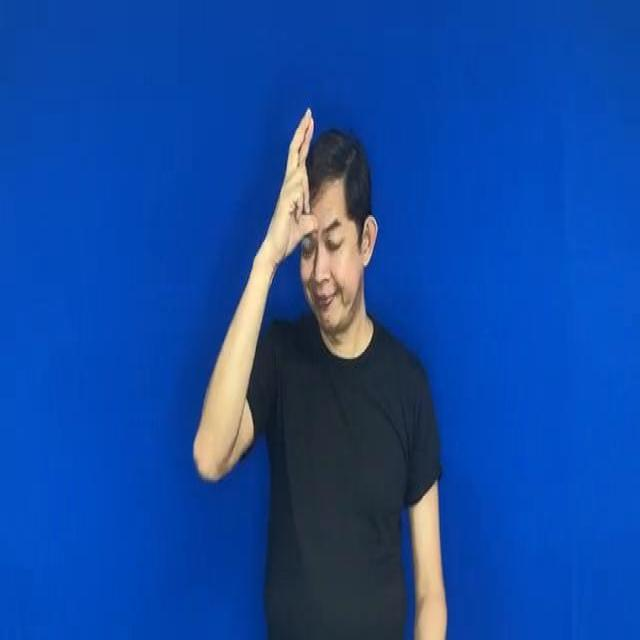chicken: (265, 107, 323, 259)
